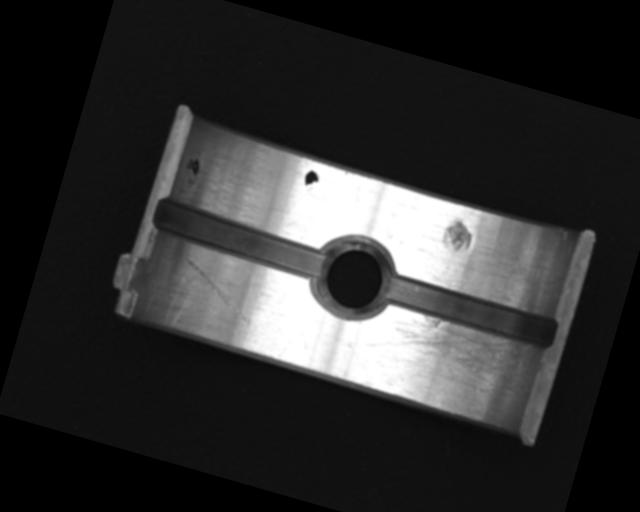blot: (179, 154, 203, 189), (300, 167, 322, 194)
bruise: (438, 216, 477, 257)
gap: (147, 193, 334, 284), (380, 269, 559, 352)
hole: (306, 228, 402, 327)
nick: (170, 255, 265, 327)
scratch: (359, 301, 535, 414)
